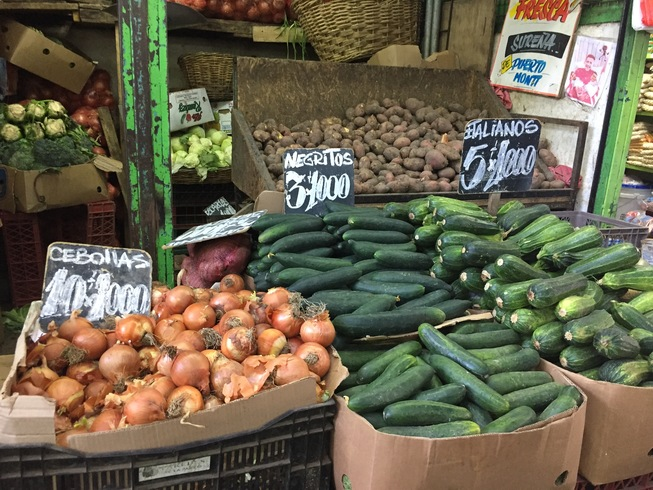precio: (40, 241, 158, 333), (284, 144, 358, 222), (463, 116, 539, 190), (182, 213, 262, 241)
